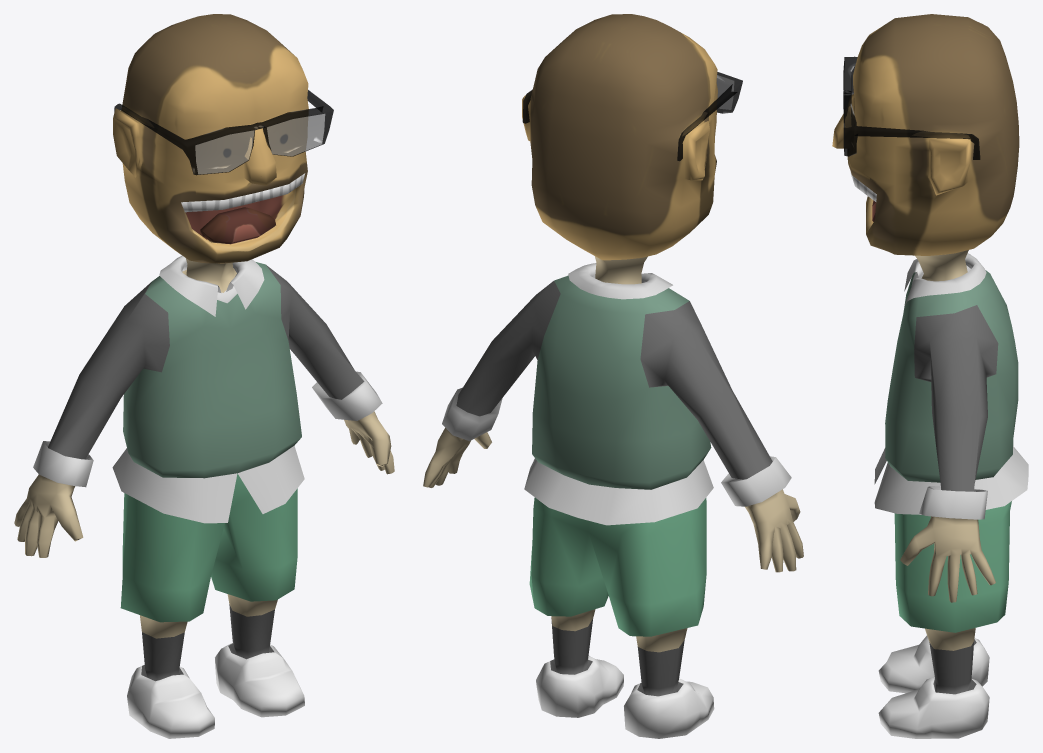
File: brad_head_w_body_fit.fbx
3 views of the same model, side by side, from view 1: azimuth 30°, elevation 25°; view 2: azimuth 150°, elevation 25°; view 3: azimuth 270°, elevation 25° (orthographic).
Parts seen in each view (by area): view 1: body, brad_face, brad_glasses, shirtCollar, brad_theet; view 2: body, brad_face, shirtCollar, brad_glasses; view 3: body, brad_face, brad_glasses, shirtCollar.
Boxes of the visible parts, bbox=[...] form: body: bbox=[14, 258, 394, 738]; brad_face: bbox=[113, 14, 308, 263]; brad_glasses: bbox=[114, 90, 333, 175]; shirtCollar: bbox=[159, 255, 264, 316]; brad_theet: bbox=[181, 173, 305, 212]; body: bbox=[423, 256, 803, 738]; brad_face: bbox=[522, 14, 717, 260]; shirtCollar: bbox=[568, 263, 672, 299]; brad_glasses: bbox=[522, 72, 742, 161]; body: bbox=[874, 250, 1028, 738]; brad_face: bbox=[832, 14, 1019, 255]; brad_glasses: bbox=[843, 56, 980, 159]; shirtCollar: bbox=[904, 253, 986, 305].
Size of the model in its own units: 4.9 by 8.86 by 2.32.
